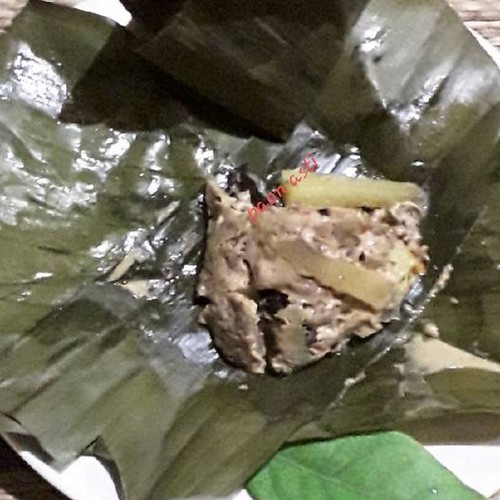tum ayam: (202, 178, 408, 367)
